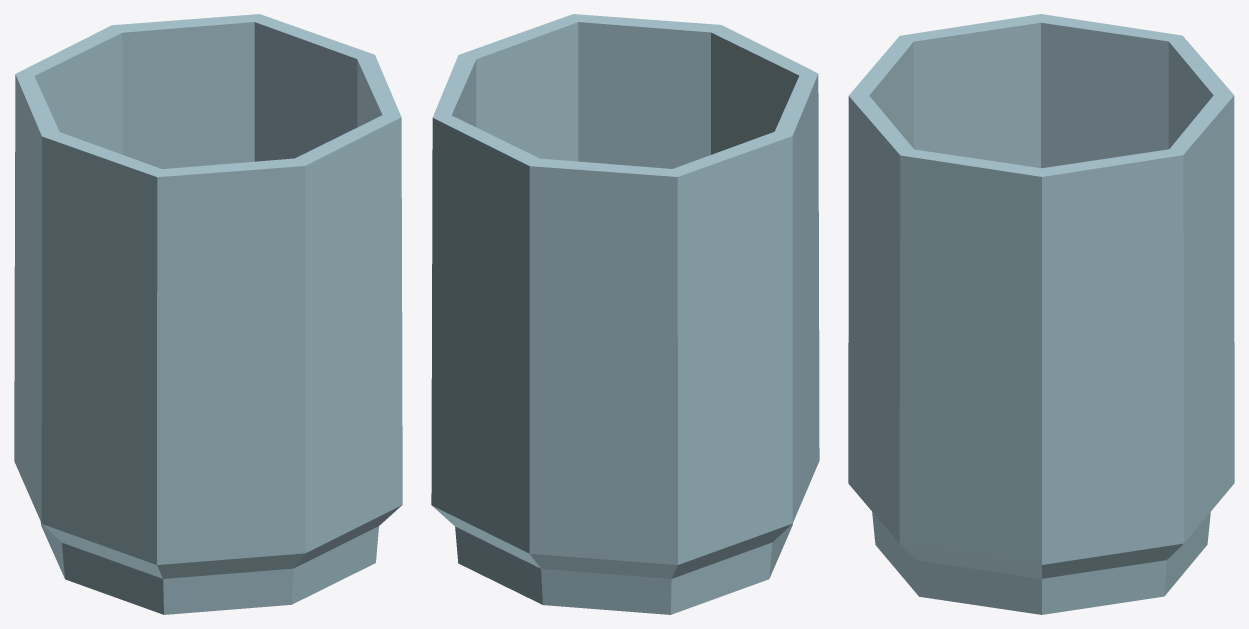
Rendered from Glass_5.fbx.
3 views of the same model, side by side, from view 1: azimuth 30°, elevation 25°; view 2: azimuth 150°, elevation 25°; view 3: azimuth 270°, elevation 25° (orthographic).
Visible parts, largest first — view 1: Glass_5; view 2: Glass_5; view 3: Glass_5.
Part boxes in pixels (left/top/right/bottom): Glass_5: left=14, top=14, right=402, bottom=614; Glass_5: left=431, top=14, right=819, bottom=614; Glass_5: left=848, top=14, right=1234, bottom=614.
Size of the model in its own units: 12.66 by 12.66 by 16.26.
